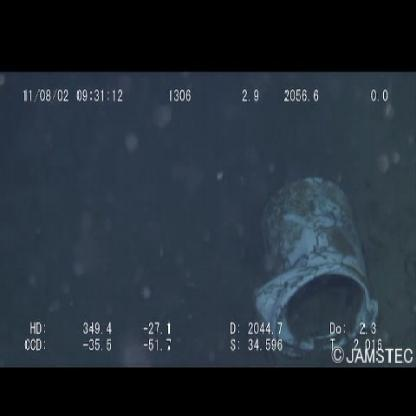Rác: (255, 178, 379, 362)
